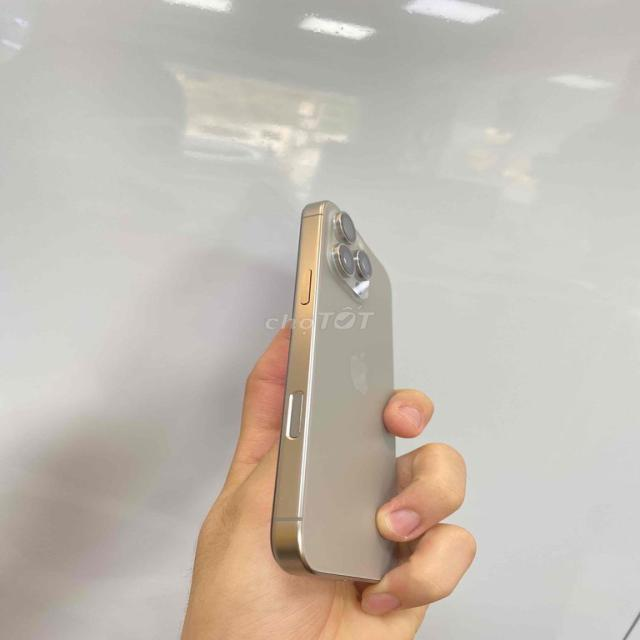gen_16: (271, 201, 395, 582)
